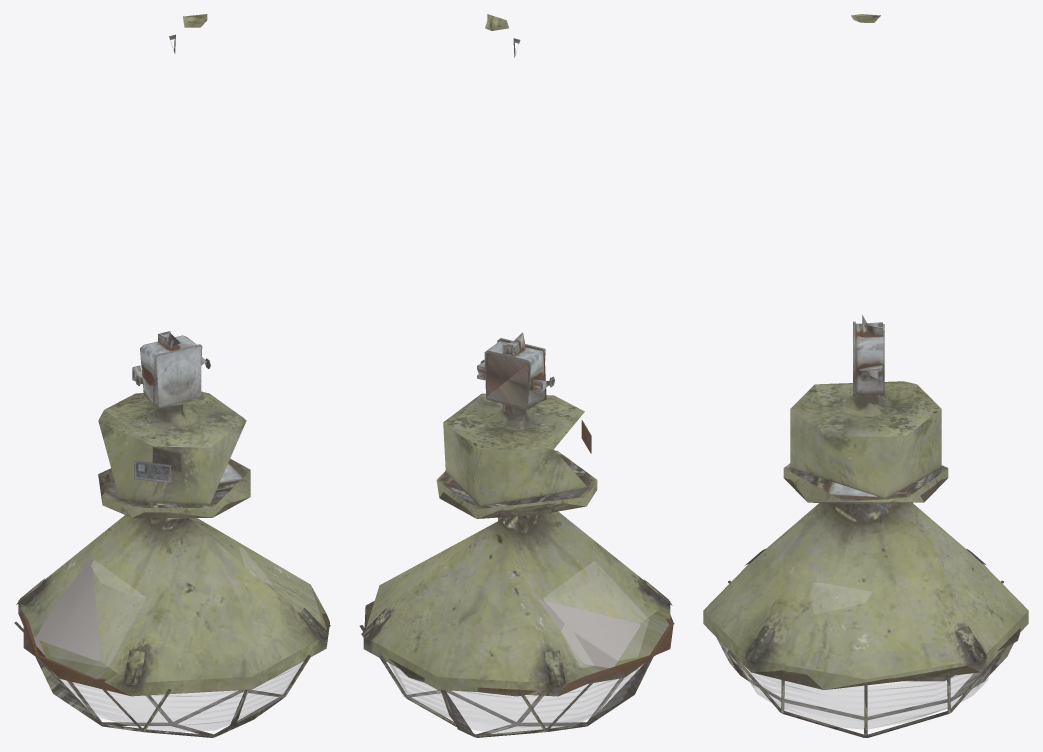
The model's file is hanging_industrial_lamp.glb.
3 renders of one model, left to right at view 1: azimuth 30°, elevation 25°; view 2: azimuth 150°, elevation 25°; view 3: azimuth 270°, elevation 25°, orthographic. The views are drawn at different scales.
Visible parts, largest first — view 1: hanging_industrial_lamp; view 2: hanging_industrial_lamp; view 3: hanging_industrial_lamp.
Boxes of the visible parts, bbox=[...] form: hanging_industrial_lamp: bbox=[14, 14, 330, 737]; hanging_industrial_lamp: bbox=[359, 14, 674, 737]; hanging_industrial_lamp: bbox=[703, 14, 1028, 737].
Size of the model in its own units: 0.5462 by 1.34 by 0.5497.
Materials: 2 (1 with a texture image).
